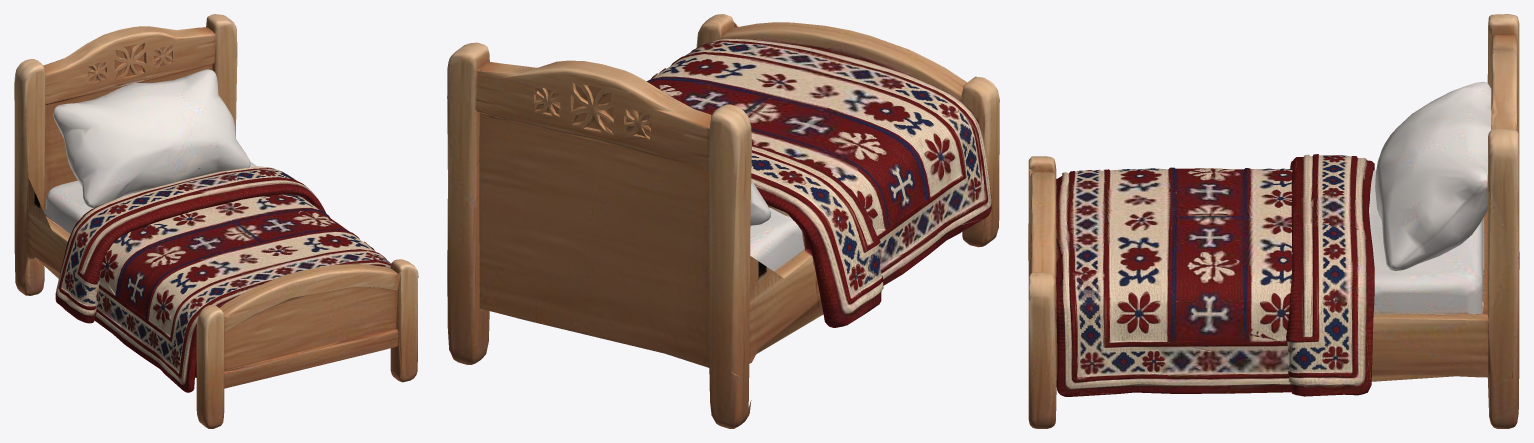
The model's file is bed.glb.
The picture shows the model from 3 angles, left to right: view 1: azimuth 30°, elevation 25°; view 2: azimuth 150°, elevation 25°; view 3: azimuth 270°, elevation 25°; orthographic projection. The views are drawn at different scales.
Size of the model in its own units: 1.46 by 1.29 by 1.9.
1 material, 1 textured.
